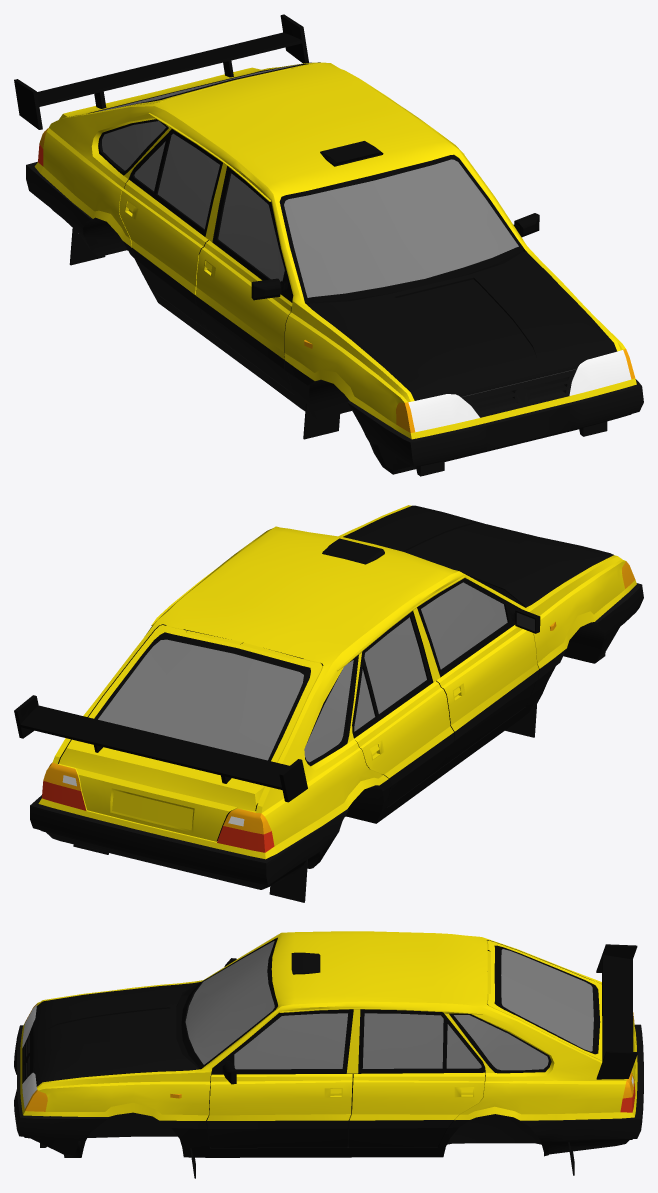
The model's file is PolonezCaro.fbx.
The picture shows the model from 3 angles, top to bottom: view 1: azimuth 30°, elevation 25°; view 2: azimuth 150°, elevation 25°; view 3: azimuth 270°, elevation 25°; orthographic projection. The views are drawn at different scales.
Visible parts, largest first — view 1: Body.006, Body.009, Body.008, Body.007, Body.010, Cube.026, Body.004, Body.001; view 2: Body.006, Body.009, Body.007, Body.008, Cube.026, Body.010, Body.002, Body.001; view 3: Body.006, Body.009, Body.007, Body.008, Body.010, Cube.026, Body.001, Body.004.
Boxes of the visible parts, x1,y1,x2,y2 form: Body.006: (34,62,636,439); Body.009: (95,64,518,297); Body.008: (307,141,616,417); Body.007: (26,161,643,476); Body.010: (88,62,614,400); Cube.026: (14,14,308,129); Body.004: (408,350,631,432); Body.001: (39,128,635,432); Body.006: (38,505,636,859); Body.009: (98,582,507,762); Body.007: (30,583,643,902); Body.008: (322,505,613,607); Cube.026: (14,695,307,802); Body.010: (58,539,540,841); Body.002: (42,781,274,852); Body.001: (43,561,635,834); Body.006: (20,931,637,1120); Body.009: (185,941,593,1070); Body.007: (14,1024,643,1178); Body.008: (22,952,320,1086); Body.010: (34,937,600,1147); Cube.026: (596,944,637,1079); Body.001: (25,1003,634,1111); Body.004: (22,1005,37,1108).
Bounding box in the file's own units: 186 × 131 × 435.
